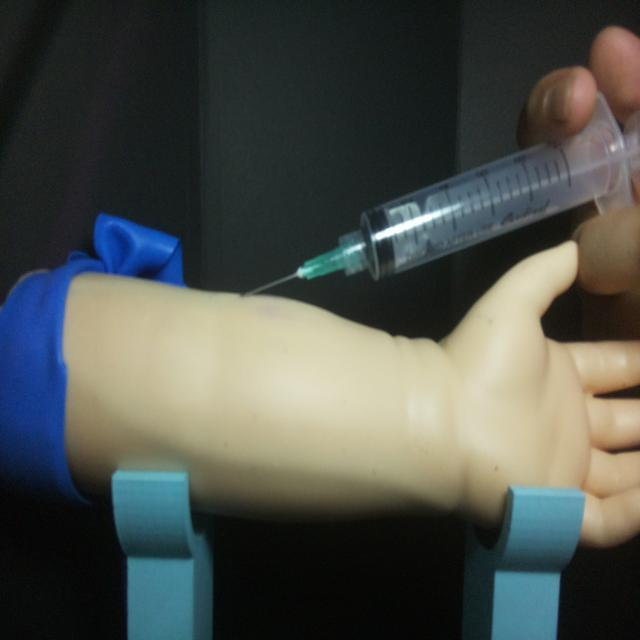20deg: (238, 91, 636, 301)
